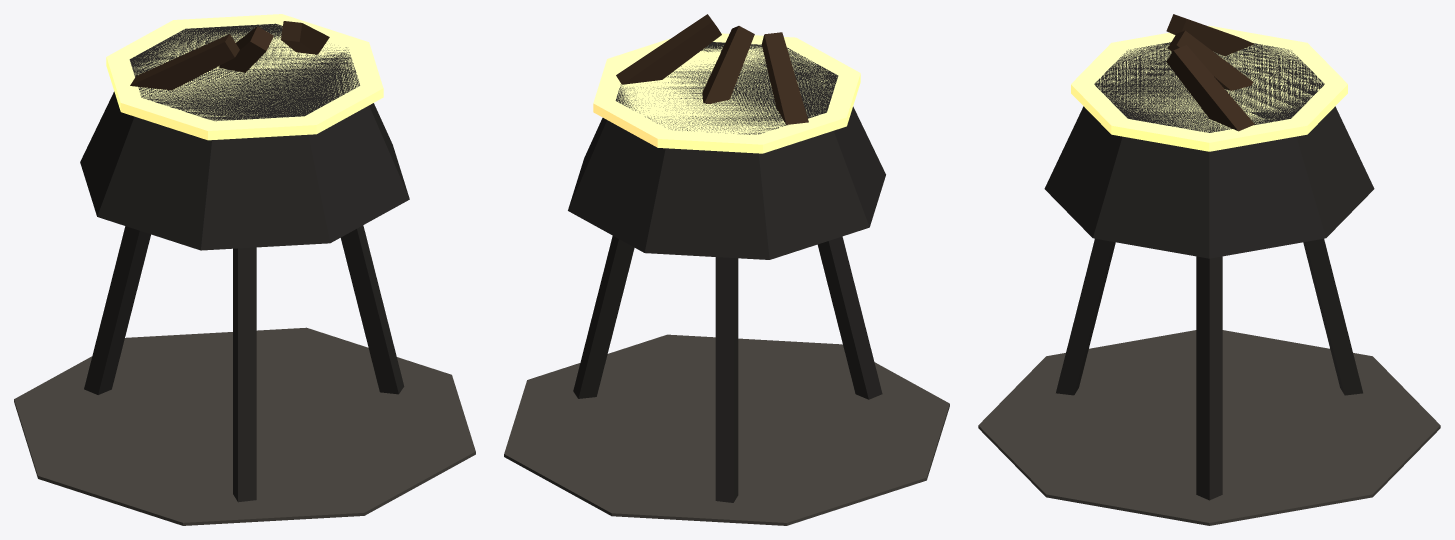
File: a3g_brazier.glb
3 renders of one model, left to right at view 1: azimuth 30°, elevation 25°; view 2: azimuth 150°, elevation 25°; view 3: azimuth 270°, elevation 25°, orthographic. The views are drawn at different scales.
Visible parts, largest first — view 1: a3g_brazier; view 2: a3g_brazier; view 3: a3g_brazier.
Boxes of the visible parts, box(x1,y1,x2,y2) form: a3g_brazier: box(14, 14, 475, 525); a3g_brazier: box(504, 14, 949, 525); a3g_brazier: box(978, 14, 1440, 525).
Size of the model in its own units: 1.4 by 1.34 by 1.4.
